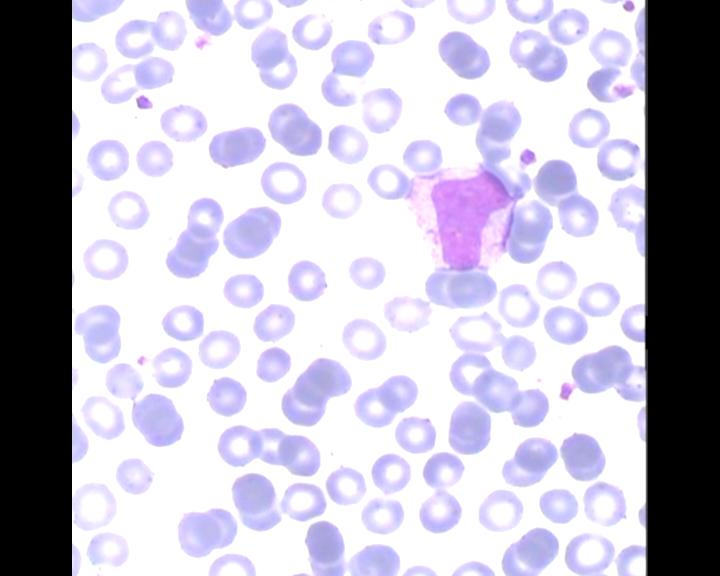mono: (397, 164, 515, 274)
